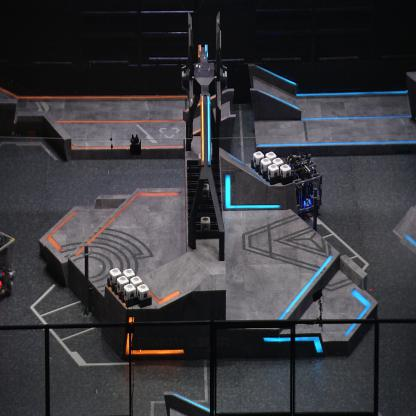car: (285, 154, 322, 217), (0, 230, 17, 300)
